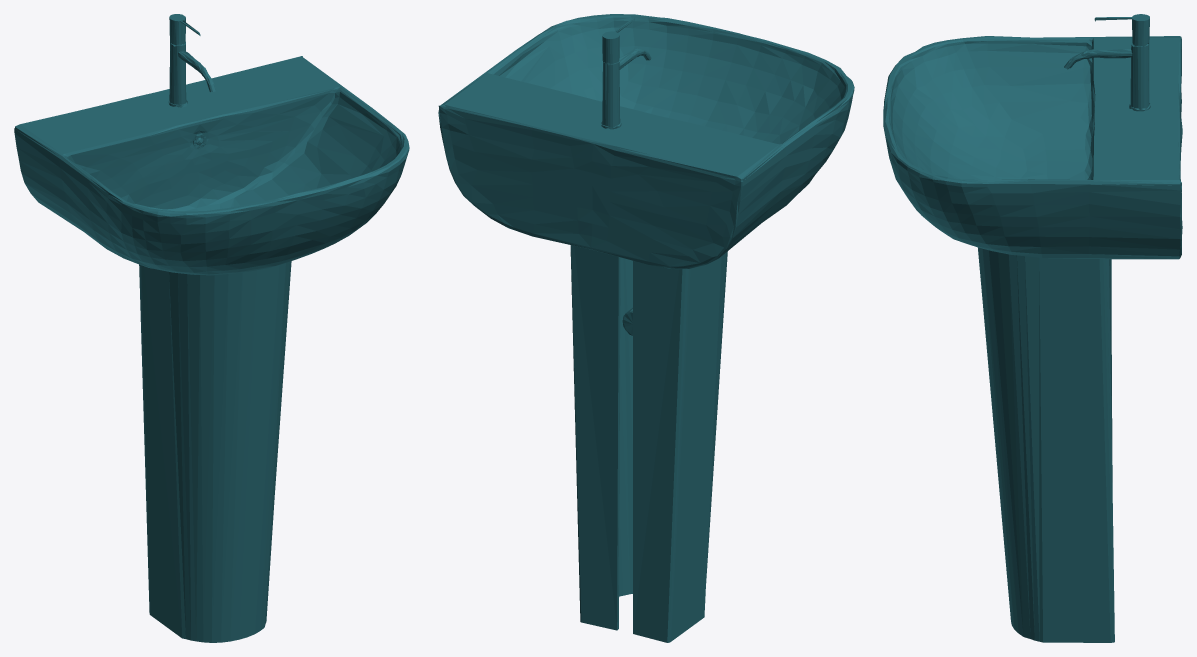
The model's file is gen-washbasin-pedestal-1.glb.
3 views of the same model, side by side, from view 1: azimuth 30°, elevation 25°; view 2: azimuth 150°, elevation 25°; view 3: azimuth 270°, elevation 25° (orthographic). The views are drawn at different scales.
Parts seen in each view (by area): view 1: gen-washbasin-pedestal-1_part1; view 2: gen-washbasin-pedestal-1_part1; view 3: gen-washbasin-pedestal-1_part1.
Boxes of the visible parts, <box> form: gen-washbasin-pedestal-1_part1: <box>14,14,409,642</box>; gen-washbasin-pedestal-1_part1: <box>438,14,854,642</box>; gen-washbasin-pedestal-1_part1: <box>883,14,1182,642</box>.
Bounding box in the file's own units: 445 × 850 × 382.
